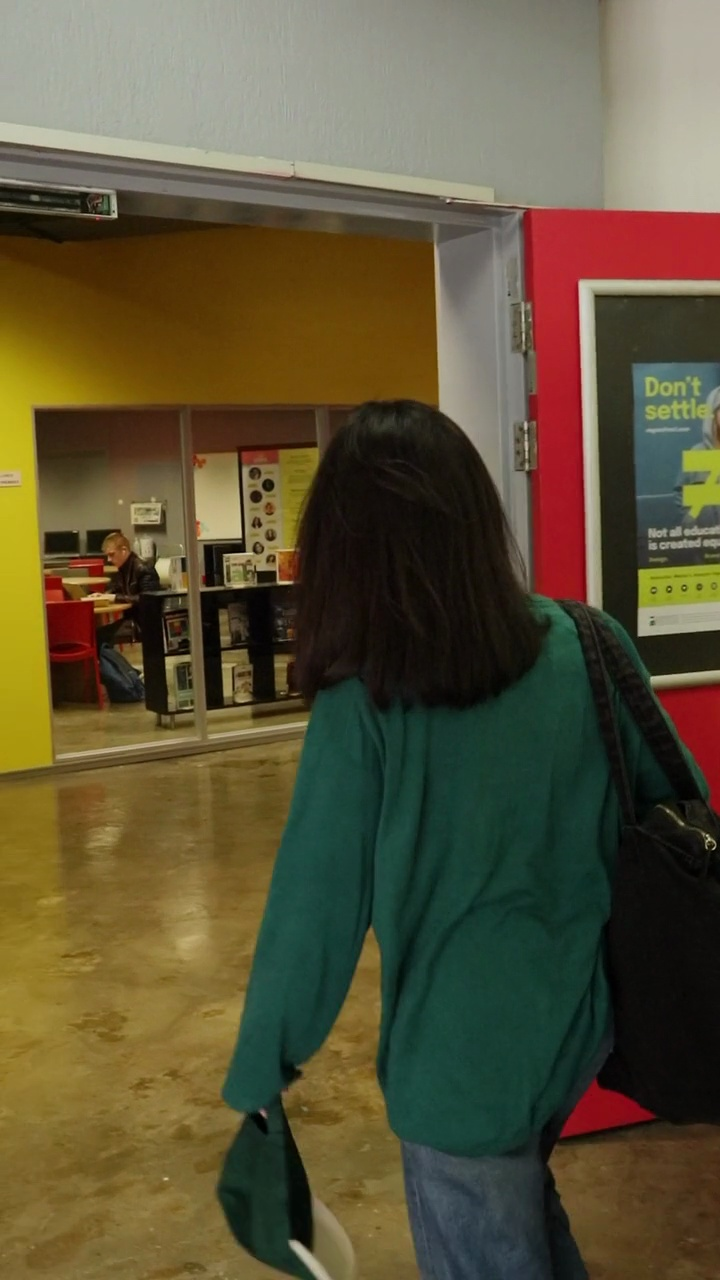dallah: (146, 905, 459, 1280)
dates_box: (198, 579, 324, 709)
electronics: (0, 141, 458, 805), (124, 140, 447, 789), (582, 264, 720, 876), (19, 390, 225, 731), (627, 476, 720, 651)
perfume_bottle: (450, 0, 720, 641)
